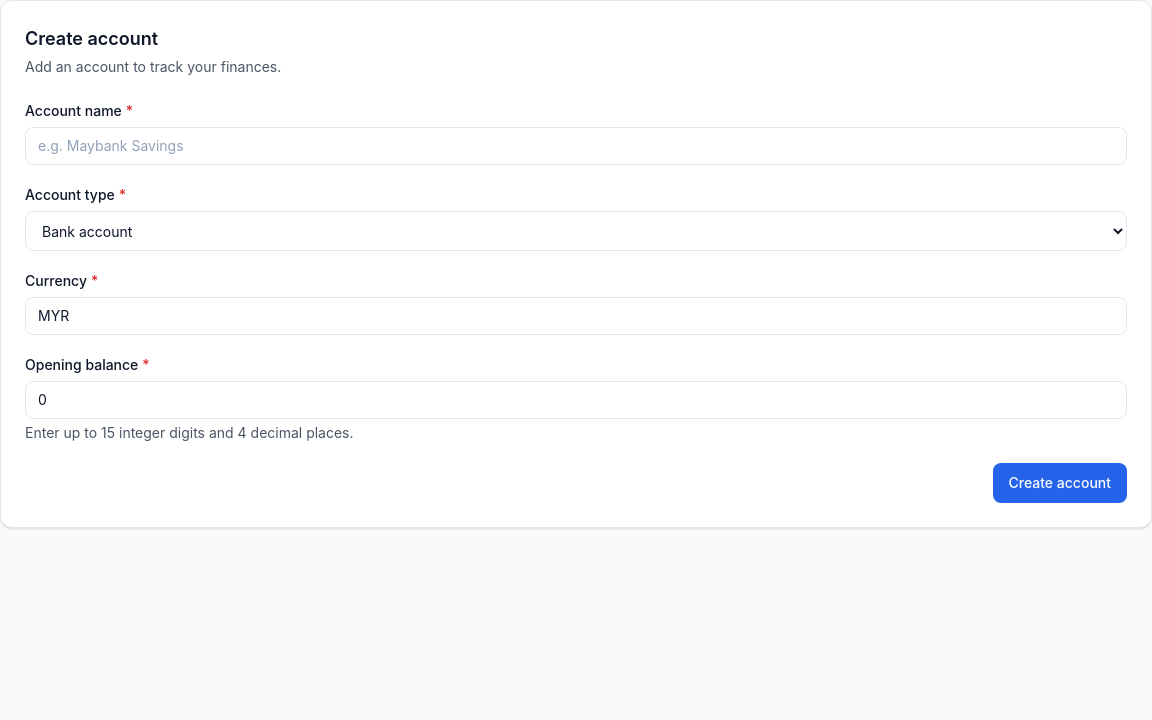
Test case: CreateAccountForm › displays an error when account creation fails
The width and height of the screenshot is (1152, 720).
Type "Maybank Savings" into the field labelled "Account name*" at (576, 146), box [25,127,1127,165]
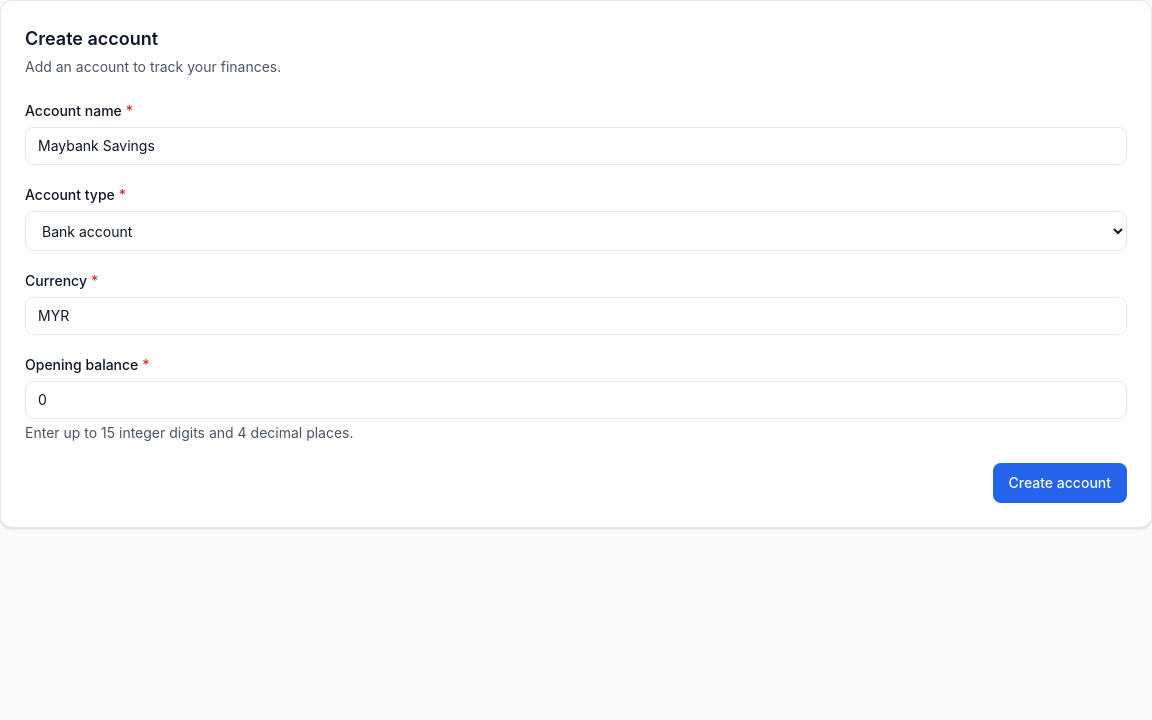
Click the button "Create account" at (1060, 483), box [992,463,1127,503]
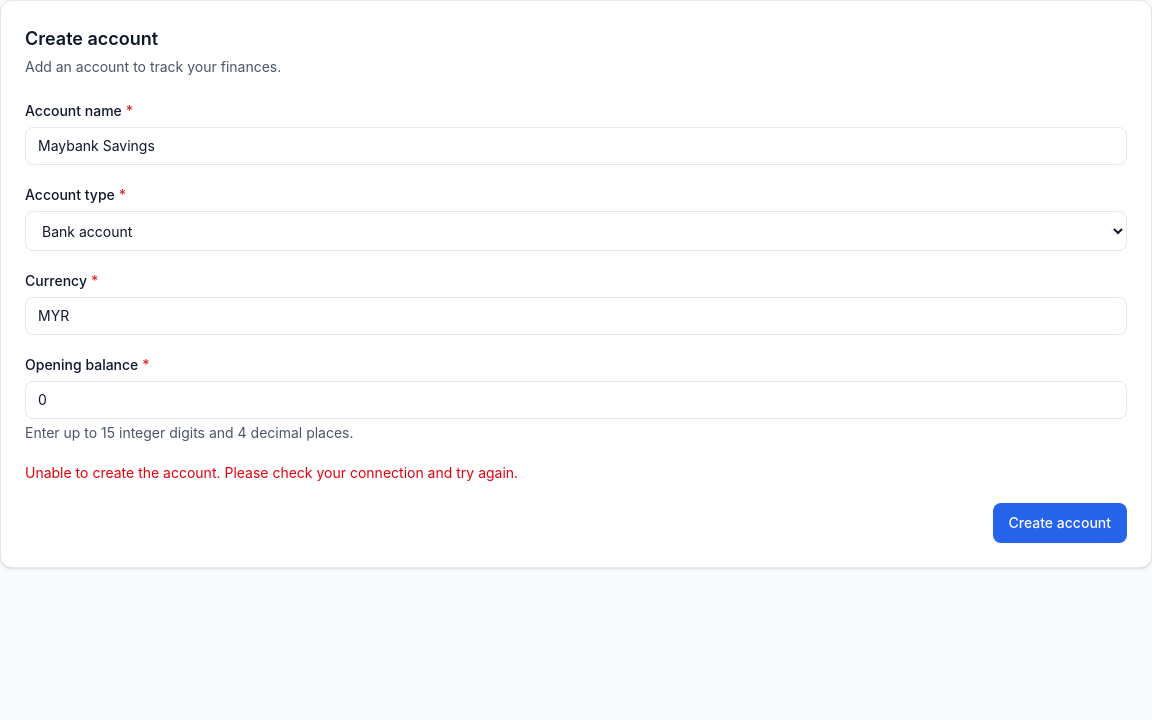
Expected: the message reads "Unable to create the account. Please check your connection and try again.", [25,464,518,481]
